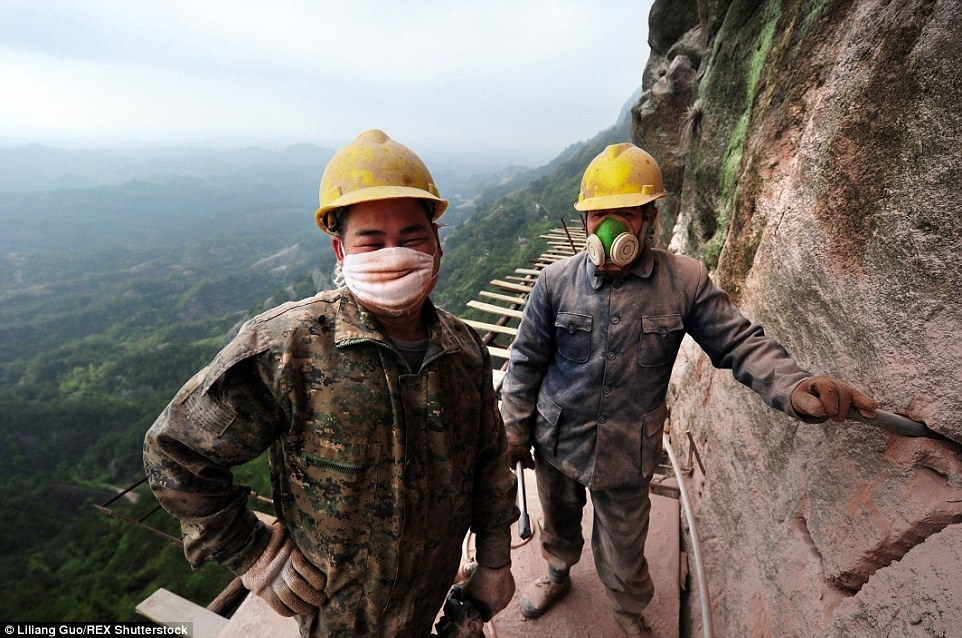yellow: (303, 126, 454, 323), (565, 139, 667, 267)
